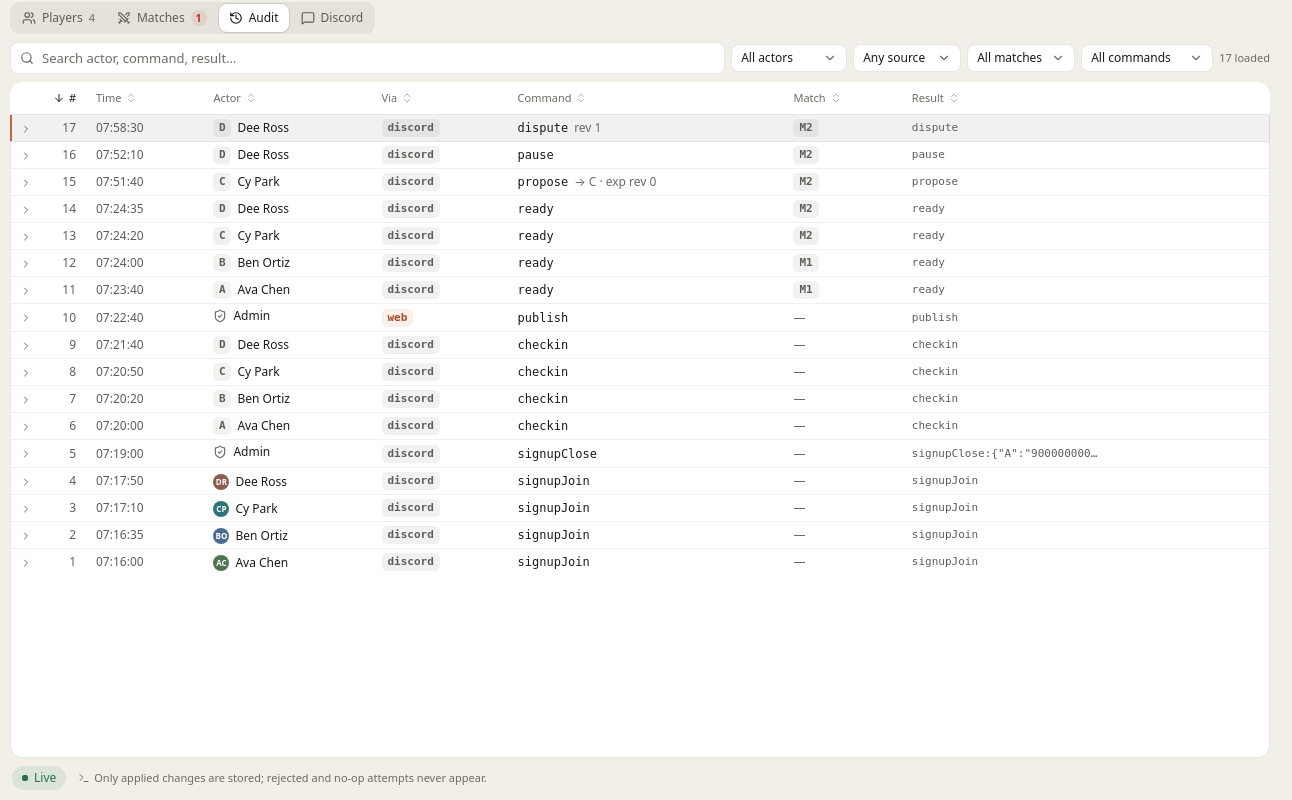
Audit tab › expands a row to its raw JSON and collapses it again
Press Enter
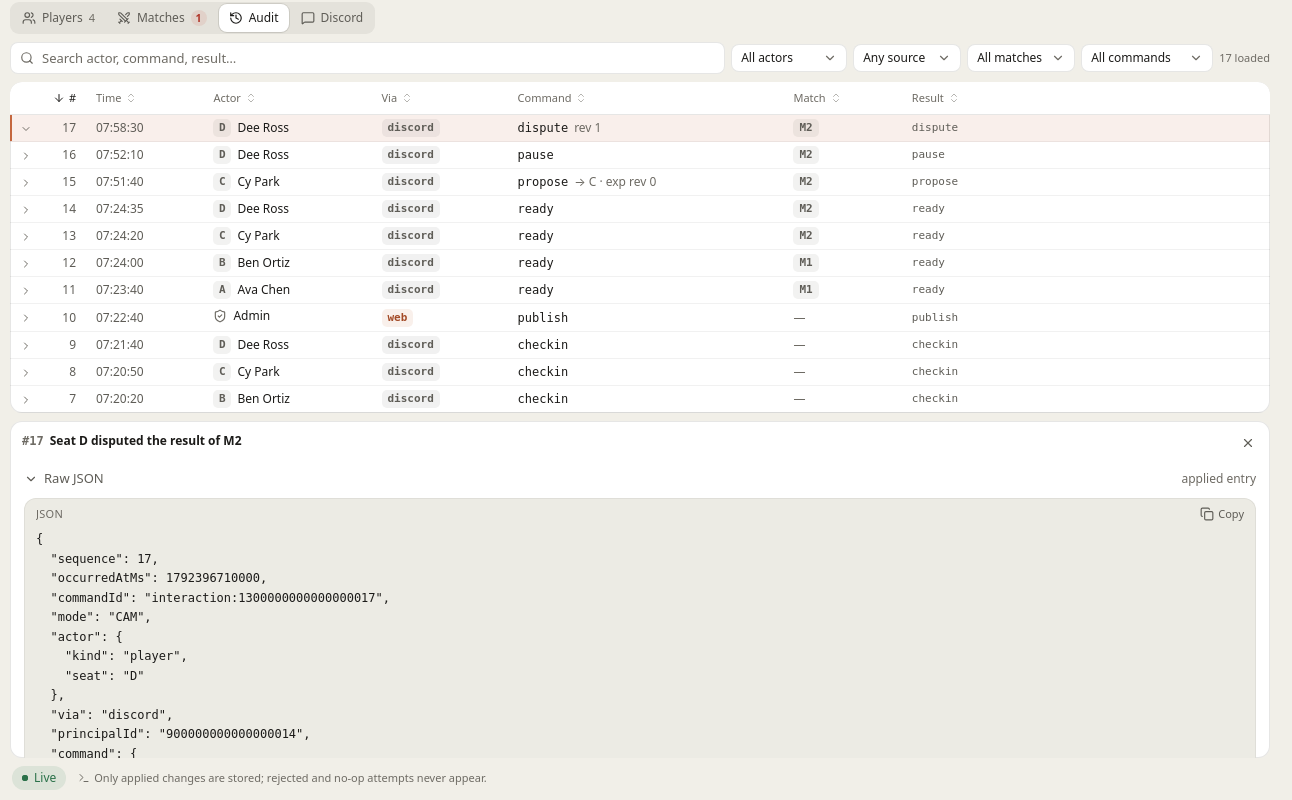
Click the row "17 07:58:30 D Dee Ross discord dispute rev 1 M2 dispute".
click(640, 128)  # box [10, 115, 1270, 142]
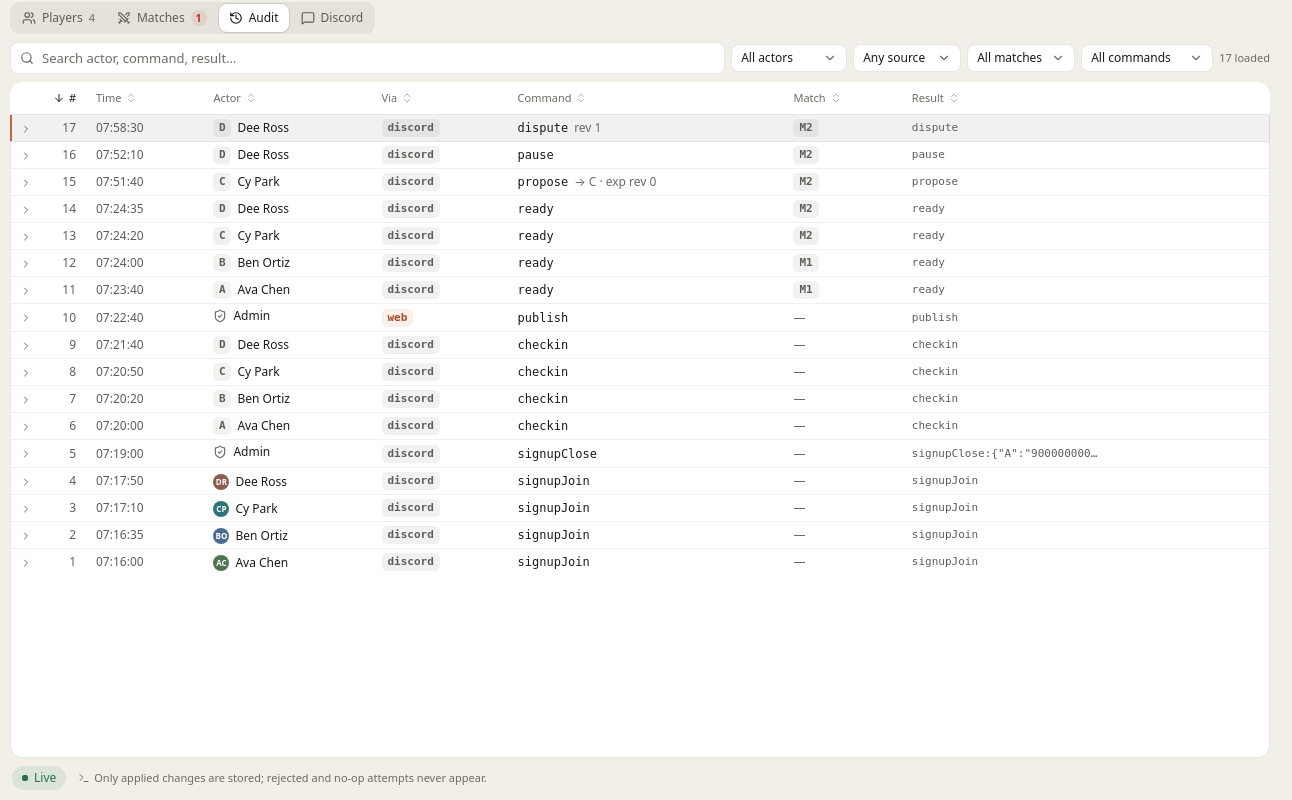
expect the text "#17" is gone: met
Click the row "16 07:52:10 D Dee Ross discord pause M2 pause".
click(640, 156)  # box [10, 142, 1270, 169]
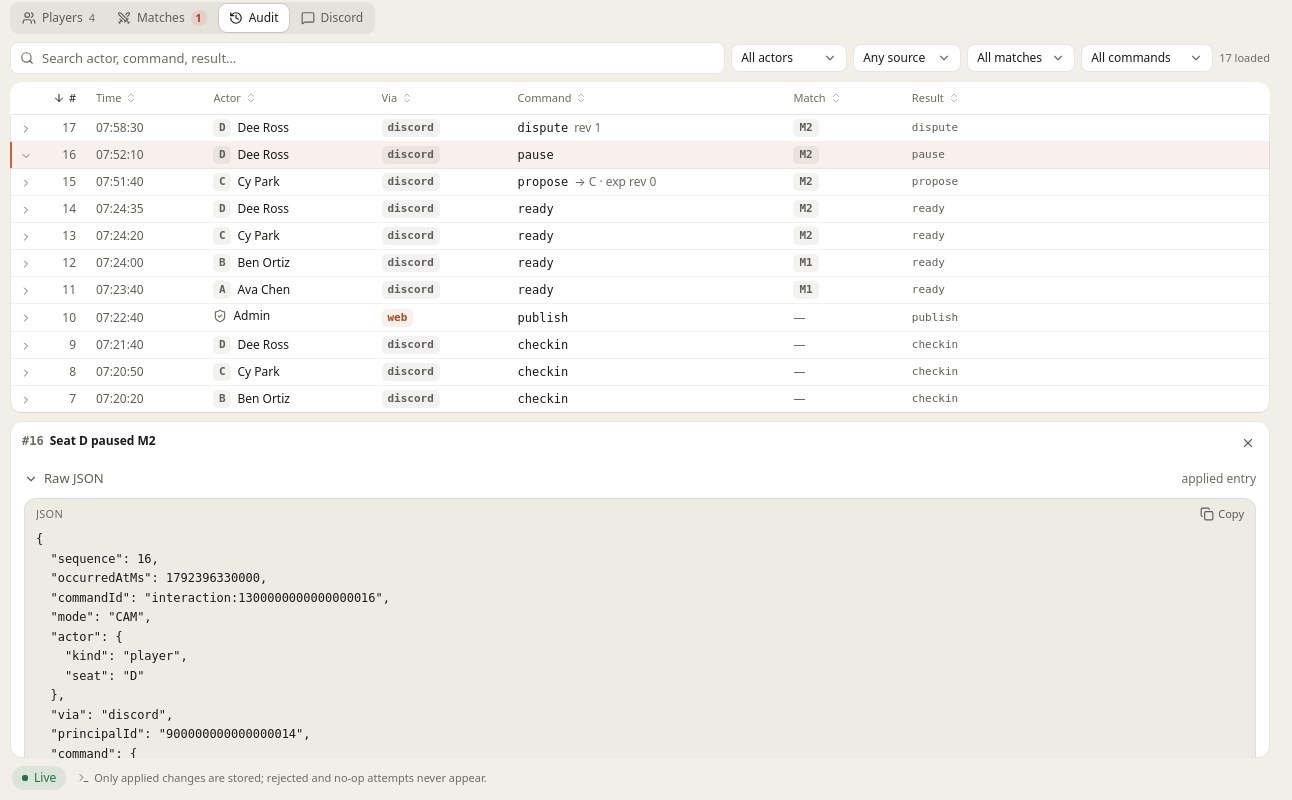
Click the button named "Close entry 16".
click(1248, 443)  # box [1234, 429, 1262, 457]
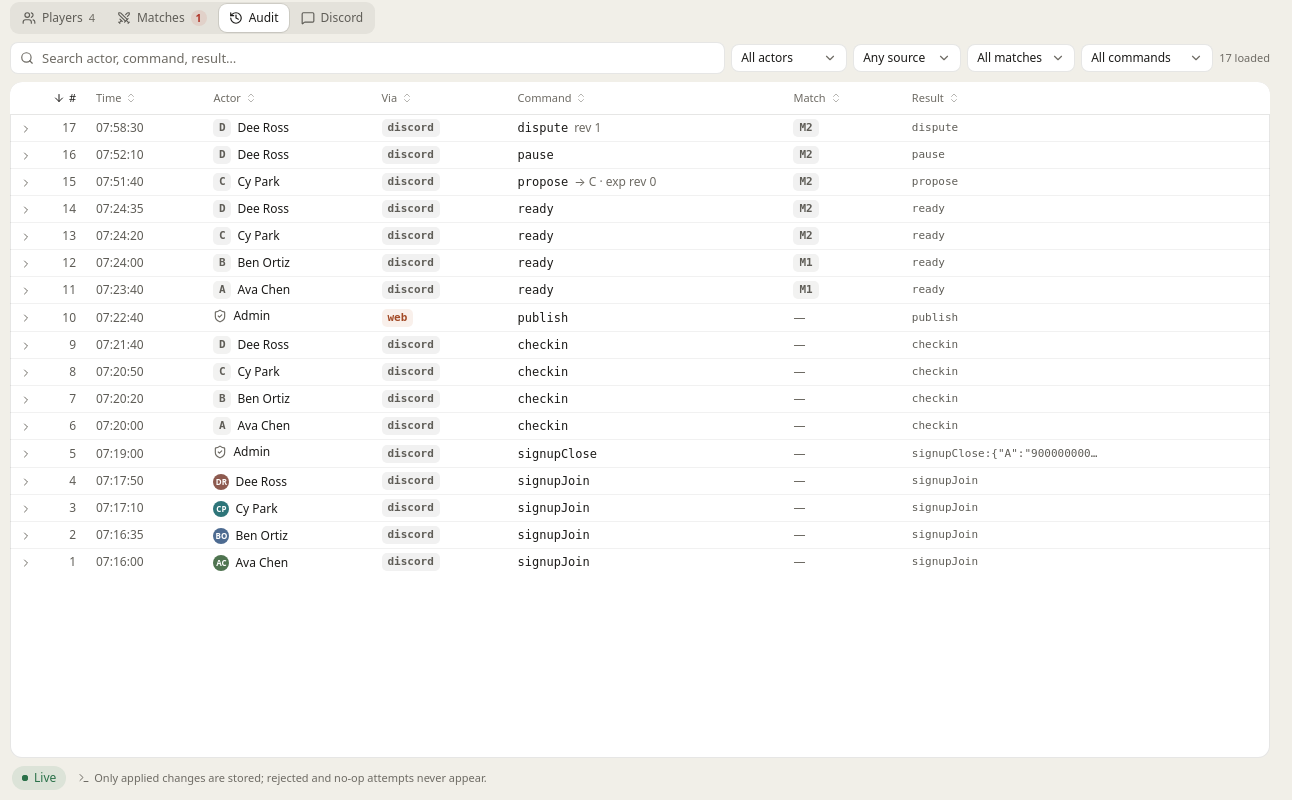
expect the text "#16" is gone: met
